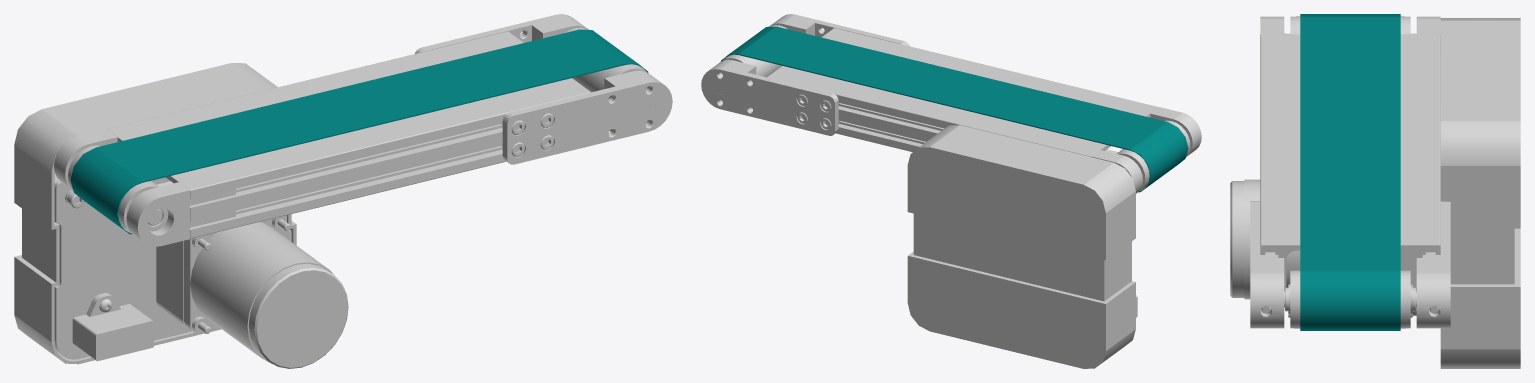
The model's file is Conveyor.fbx.
3 views of the same model, side by side, from view 1: azimuth 30°, elevation 25°; view 2: azimuth 150°, elevation 25°; view 3: azimuth 270°, elevation 25° (orthographic). The views are drawn at different scales.
Parts seen in each view (by area): view 1: SVKA-50-300_l_1, SVKA-6_mc_3, SVKA-50-300-H_b_2, SVKA6-T100-IM-12.5-AS_5, Capacitor-6-T100-IM-AS_4; view 2: SVKA-6_mc_3, SVKA-50-300_l_1, SVKA-50-300-H_b_2; view 3: SVKA-50-300-H_b_2, SVKA-50-300_l_1, SVKA-6_mc_3, SVKA6-T100-IM-12.5-AS_5.
Part boxes in pixels (<box>): SVKA-50-300_l_1: <box>54,14,672,246</box>; SVKA-6_mc_3: <box>14,63,296,364</box>; SVKA-50-300-H_b_2: <box>70,29,648,234</box>; SVKA6-T100-IM-12.5-AS_5: <box>156,215,348,368</box>; Capacitor-6-T100-IM-AS_4: <box>72,293,153,361</box>; SVKA-6_mc_3: <box>907,125,1135,368</box>; SVKA-50-300_l_1: <box>701,14,1201,193</box>; SVKA-50-300-H_b_2: <box>720,26,1188,192</box>; SVKA-50-300-H_b_2: <box>1300,14,1400,330</box>; SVKA-50-300_l_1: <box>1250,16,1450,328</box>; SVKA-6_mc_3: <box>1440,18,1520,368</box>; SVKA6-T100-IM-12.5-AS_5: <box>1230,179,1416,315</box>.
Size of the model in its own units: 3.32 by 1.37 by 1.45.
